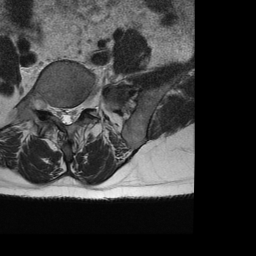CCS_normal: (62, 99, 70, 130)
LFS_normal: (78, 95, 87, 118)
LLS_normal: (69, 99, 78, 125)
RFS_normal: (47, 96, 54, 120)
RLS_normal: (54, 99, 61, 125)
